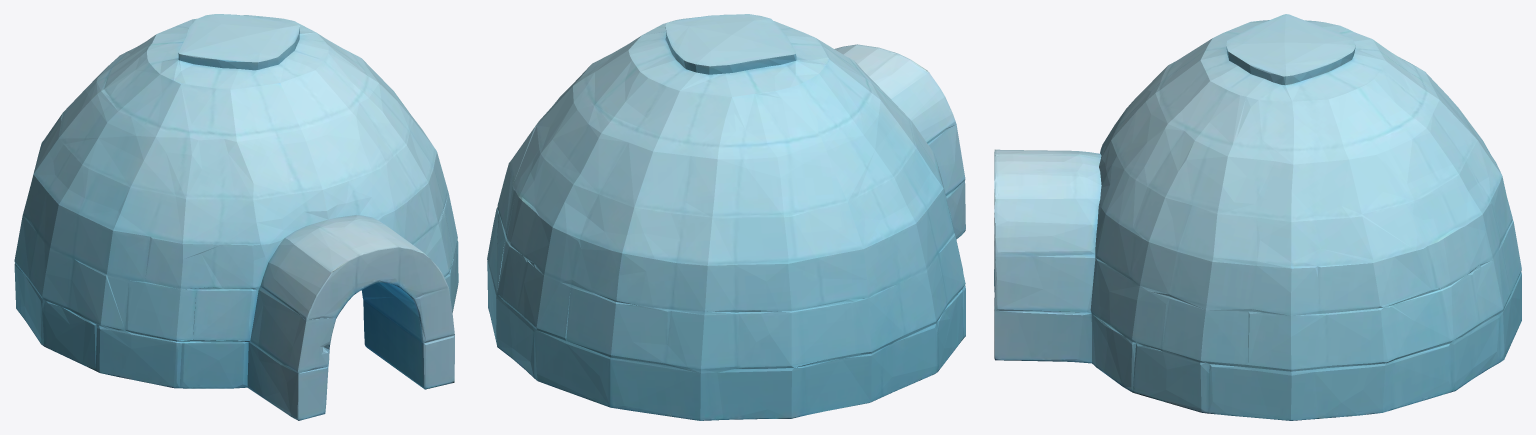
Rendered from igloo.glb.
3 renders of one model, left to right at view 1: azimuth 30°, elevation 25°; view 2: azimuth 150°, elevation 25°; view 3: azimuth 270°, elevation 25°, orthographic. The views are drawn at different scales.
Visible parts, largest first — view 1: world; view 2: world; view 3: world.
Part boxes in pixels (x1,y1,x2,y2): world: [14, 14, 458, 420]; world: [487, 14, 965, 420]; world: [994, 14, 1521, 420].
Bounding box in the file's own units: 0.8985 × 0.5822 × 0.9991.
Materials: 1 (1 with a texture image).
